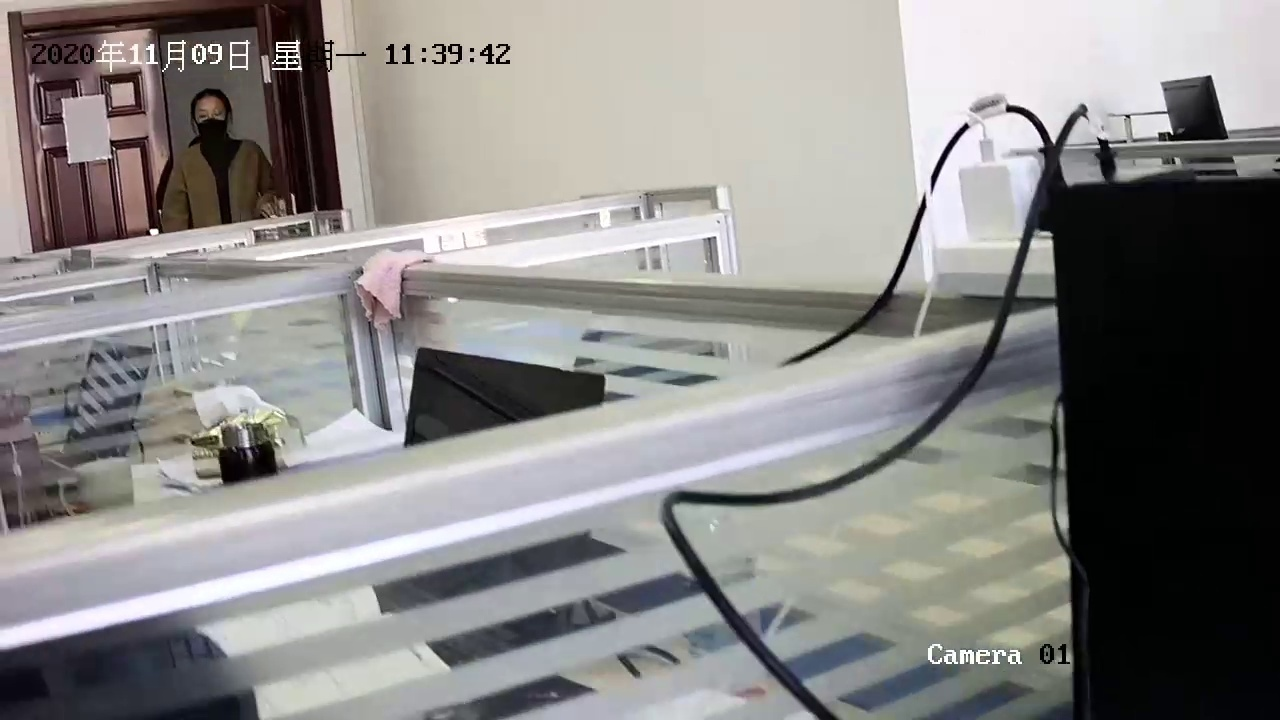mask: (192, 87, 231, 141)
